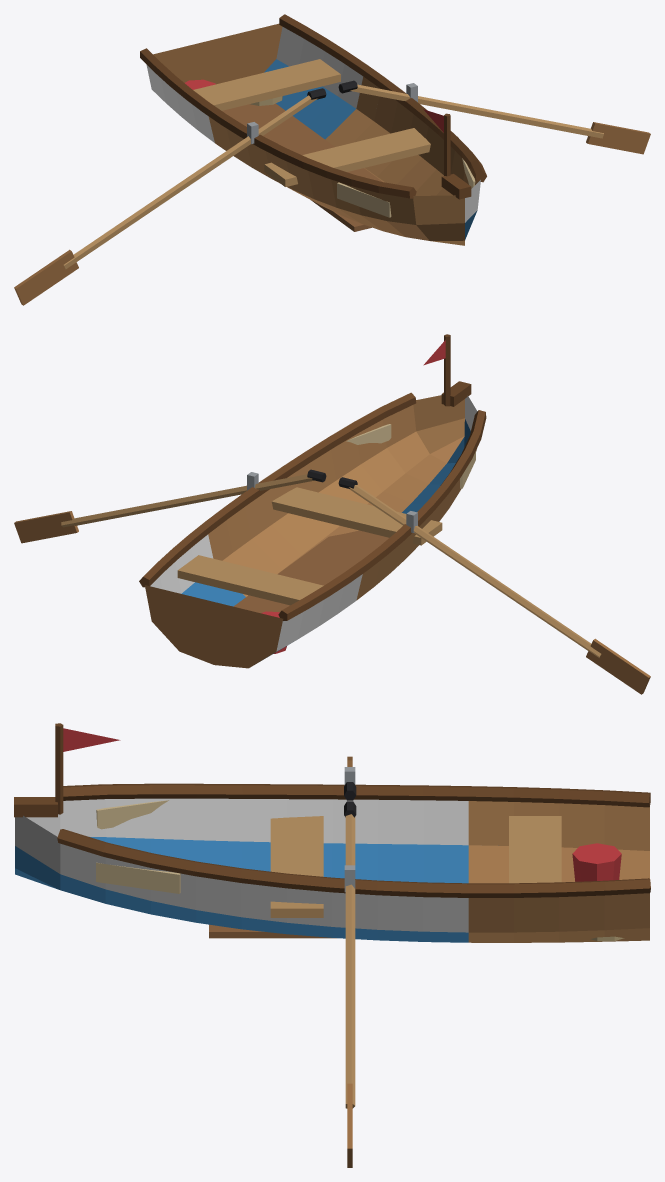
Rendered from rowboat-B2sE8A8g.glb.
3 renders of one model, top to bottom at view 1: azimuth 30°, elevation 25°; view 2: azimuth 150°, elevation 25°; view 3: azimuth 270°, elevation 25°, orthographic. The views are drawn at different scales.
Visible parts, largest first — view 1: rowboat, oar_L, oar_R; view 2: rowboat, oar_L, oar_R; view 3: rowboat, oar_R.
Part boxes in pixels (x1,y1,x2,y2): rowboat: (140, 14, 486, 245); oar_L: (14, 88, 326, 305); oar_R: (338, 80, 650, 154); rowboat: (139, 334, 486, 668); oar_L: (338, 477, 650, 694); oar_R: (14, 469, 326, 543); rowboat: (14, 723, 650, 942); oar_R: (344, 801, 356, 1167).
Bounding box in the file's own units: 5.26 × 1.57 × 3.61.
